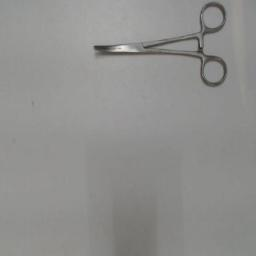Crile Artery Forceps: (86, 1, 232, 93)
